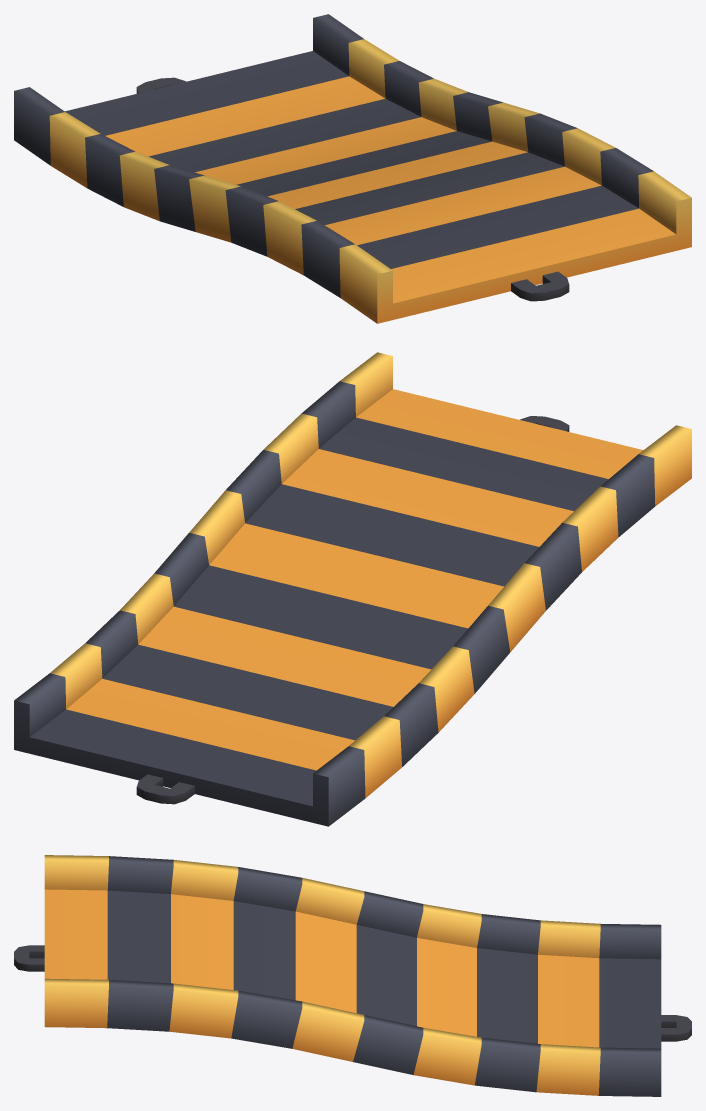
File: track-striped-wide-straight-hill-complete-half.fbx
3 views of the same model, one above another, from view 1: azimuth 30°, elevation 25°; view 2: azimuth 150°, elevation 25°; view 3: azimuth 270°, elevation 25° (orthographic). The views are drawn at different scales.
Parts seen in each view (by area): view 1: track-striped-wide-straight-hill-complete-half; view 2: track-striped-wide-straight-hill-complete-half; view 3: track-striped-wide-straight-hill-complete-half.
Boxes of the visible parts, x1,y1,x2,y2 form: track-striped-wide-straight-hill-complete-half: (14,14,691,323); track-striped-wide-straight-hill-complete-half: (14,352,691,826); track-striped-wide-straight-hill-complete-half: (14,855,691,1096).
Size of the model in its own units: 200 by 80 by 440.
